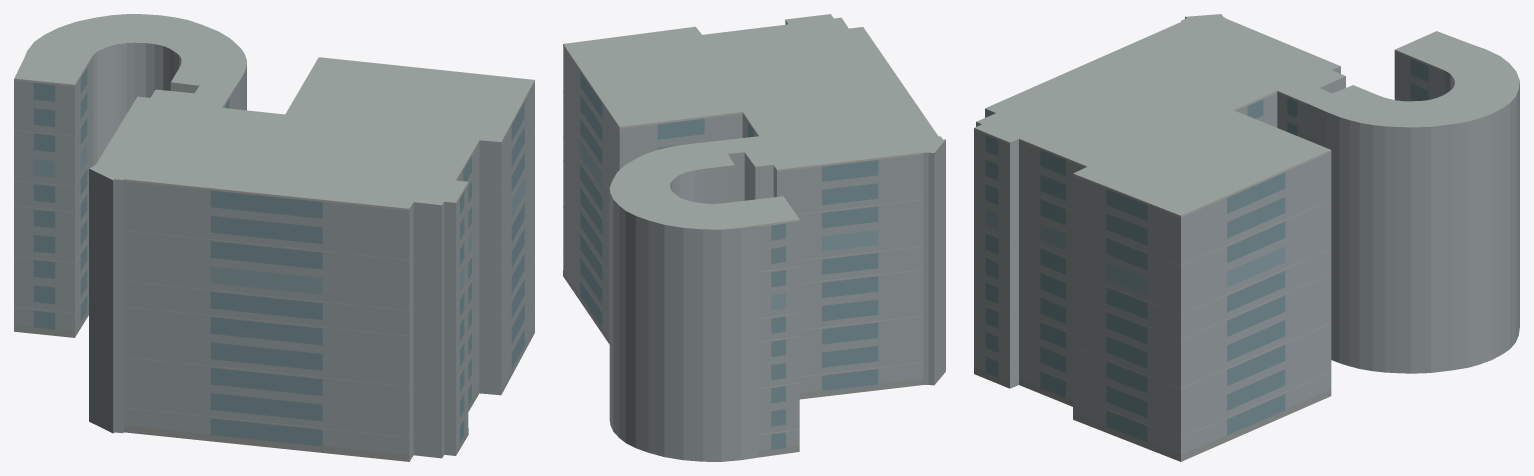
The model's file is survey-upis-32517984.glb.
3 renders of one model, left to right at view 1: azimuth 30°, elevation 25°; view 2: azimuth 150°, elevation 25°; view 3: azimuth 270°, elevation 25°, orthographic. The views are drawn at different scales.
Parts seen in each view (by area): view 1: survey-upis-32517984.tmp; view 2: survey-upis-32517984.tmp; view 3: survey-upis-32517984.tmp.
Boxes of the visible parts, x1=… form: survey-upis-32517984.tmp: x1=14, y1=14, x2=534, y2=461; survey-upis-32517984.tmp: x1=563, y1=14, x2=945, y2=461; survey-upis-32517984.tmp: x1=974, y1=14, x2=1519, y2=461.
Size of the model in its own units: 53.62 by 30.5 by 61.29.
